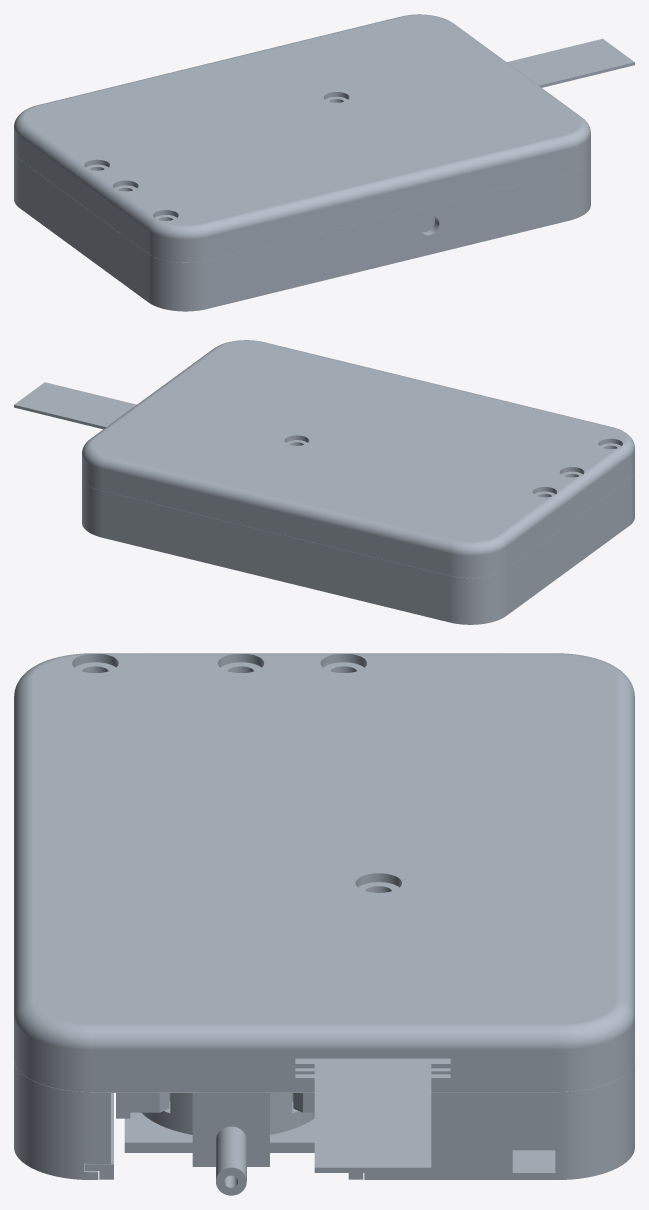
The model's file is OP-100_assembly.glb.
The picture shows the model from 3 angles, top to bottom: view 1: azimuth 30°, elevation 25°; view 2: azimuth 150°, elevation 25°; view 3: azimuth 270°, elevation 25°; orthographic projection. The views are drawn at different scales.
Visible parts, largest first — view 1: top, bottom, ffc_cable; view 2: top, bottom, ffc_cable; view 3: top, bottom, ffc_cable, cannula_adapter, dock_insert.
Part boxes in pixels (left/top/right/bottom): top: left=14, top=14, right=590, bottom=262; bottom: left=14, top=152, right=590, bottom=311; ffc_cable: left=507, top=38, right=634, bottom=87; top: left=82, top=340, right=634, bottom=578; bottom: left=82, top=472, right=634, bottom=624; ffc_cable: left=14, top=382, right=136, bottom=429; top: left=14, top=653, right=634, bottom=1091; bottom: left=14, top=1061, right=634, bottom=1179; ffc_cable: left=314, top=1058, right=431, bottom=1172; cannula_adapter: left=124, top=1093, right=314, bottom=1195; dock_insert: left=84, top=1093, right=363, bottom=1179.
Size of the model in its own units: 0.059 by 0.0084 by 0.032.
